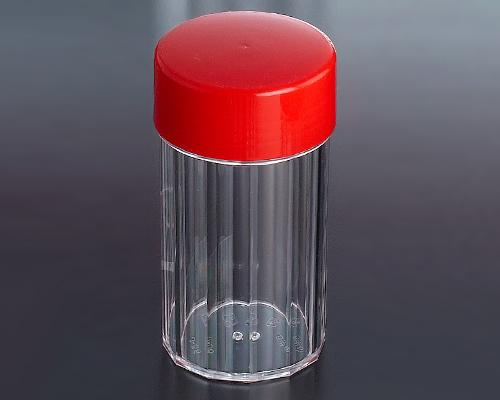medicinejar: (150, 6, 344, 380)
